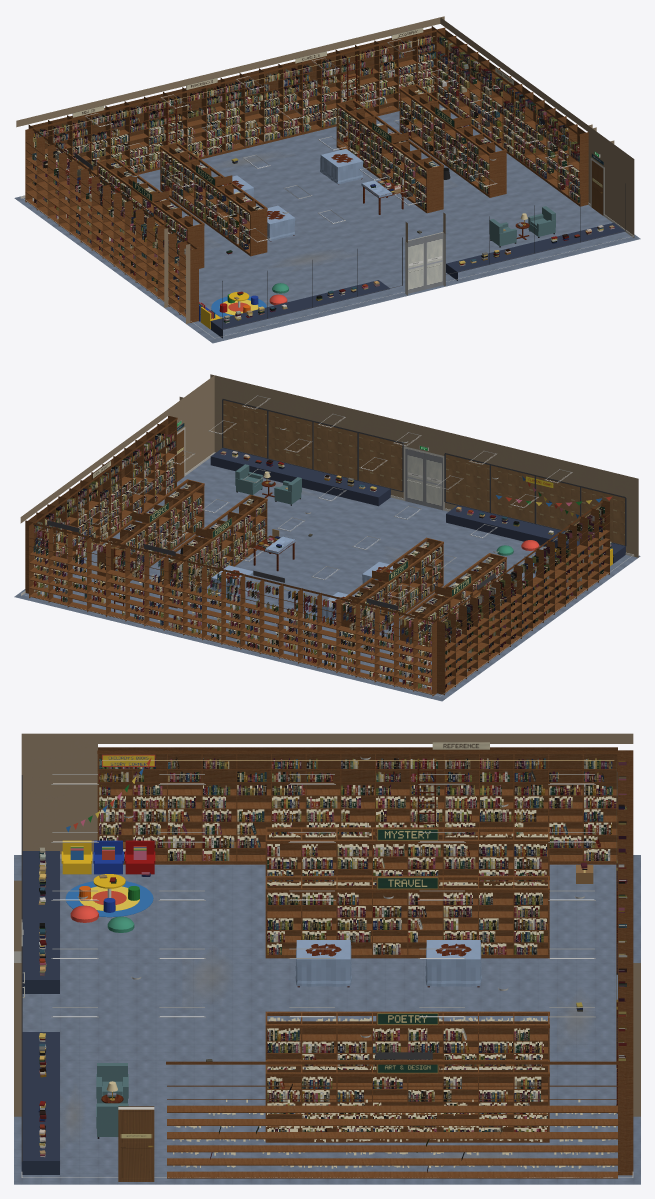
File: bookstore.glb
3 views of the same model, one above another, from view 1: azimuth 30°, elevation 25°; view 2: azimuth 150°, elevation 25°; view 3: azimuth 270°, elevation 25° (orthographic). The views are drawn at different scales.
Visible parts, largest first — view 1: Wood_Shelf, Carpet_Shop, Book_Spines, Wall_Paint, Shelf_Back, Paint_Palette, Cloth_Sheet, Plastic_White, Sign_Paint, Wood_Desk, Fabric_Chair, Book_Loose (+7 smaller); view 2: Wood_Shelf, Carpet_Shop, Book_Spines, Glass_Paper, Wall_Paint, Paint_Palette, Metal_Dark, Shelf_Back, Plastic_White, Cloth_Sheet, Fabric_Chair, Trim_Paint (+5 smaller); view 3: Carpet_Shop, Wood_Shelf, Book_Spines, Shelf_Back, Wall_Paint, Paint_Palette, Cloth_Sheet, Sign_Paint, Plastic_White, DoorLeaf_bookstore_desk, Decal_Dust, Fabric_Chair (+5 smaller).
Part boxes in pixels (x1=…): Wood_Shelf: x1=25, y1=26, x2=588, y2=322; Carpet_Shop: x1=14, y1=104, x2=640, y2=343; Book_Spines: x1=32, y1=35, x2=579, y2=313; Wall_Paint: x1=16, y1=16, x2=634, y2=323; Shelf_Back: x1=31, y1=28, x2=585, y2=226; Paint_Palette: x1=91, y1=54, x2=625, y2=338; Cloth_Sheet: x1=222, y1=149, x2=392, y2=241; Plastic_White: x1=85, y1=39, x2=600, y2=242; Sign_Paint: x1=73, y1=28, x2=603, y2=201; Wood_Desk: x1=92, y1=56, x2=529, y2=241; Fabric_Chair: x1=489, y1=206, x2=555, y2=246; Book_Loose: x1=223, y1=158, x2=614, y2=323; Wood_Shelf: x1=25, y1=415, x2=609, y2=696; Carpet_Shop: x1=14, y1=458, x2=640, y2=701; Book_Spines: x1=33, y1=433, x2=605, y2=691; Glass_Paper: x1=223, y1=400, x2=624, y2=545; Wall_Paint: x1=20, y1=374, x2=638, y2=557; Paint_Palette: x1=113, y1=448, x2=625, y2=678; Metal_Dark: x1=47, y1=399, x2=626, y2=610; Shelf_Back: x1=28, y1=418, x2=497, y2=693; Plastic_White: x1=84, y1=395, x2=572, y2=598; Cloth_Sheet: x1=211, y1=536, x2=392, y2=623; Fabric_Chair: x1=235, y1=464, x2=301, y2=504; Trim_Paint: x1=21, y1=427, x2=634, y2=696; Carpet_Shop: x1=14, y1=855, x2=640, y2=1184; Wood_Shelf: x1=97, y1=750, x2=633, y2=1178; Book_Spines: x1=99, y1=757, x2=627, y2=1172; Shelf_Back: x1=98, y1=747, x2=617, y2=1131; Wall_Paint: x1=14, y1=733, x2=640, y2=1116; Paint_Palette: x1=21, y1=758, x2=617, y2=1174; Cloth_Sheet: x1=295, y1=940, x2=481, y2=1021; Sign_Paint: x1=102, y1=742, x2=489, y2=1073; Plastic_White: x1=21, y1=757, x2=595, y2=1037; DoorLeaf_bookstore_desk: x1=118, y1=1106, x2=154, y2=1181; Decal_Dust: x1=65, y1=960, x2=590, y2=1157; Fabric_Chair: x1=96, y1=1063, x2=128, y2=1136.
Bounding box in the file's own units: 20.4 × 3.6 × 16.4.
23 materials, 16 textured.
